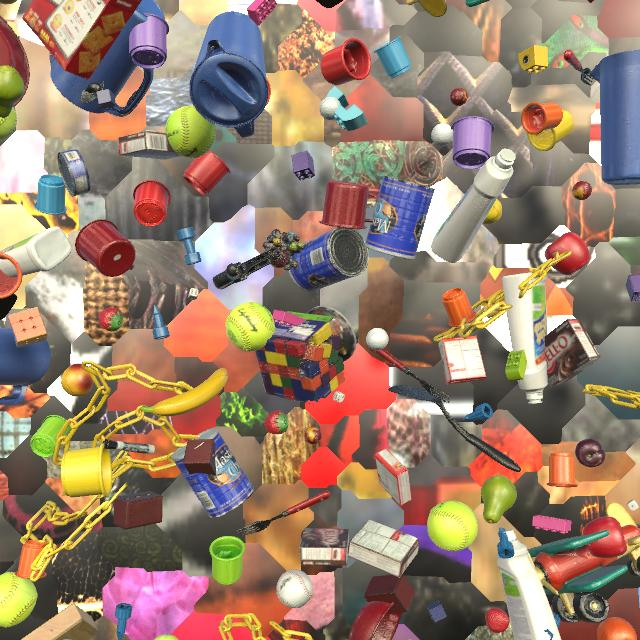ycb_002_master_chef_can: (171, 427, 254, 518), (364, 175, 435, 260), (288, 227, 369, 292), (63, 639, 71, 640)
ycb_003_cracker_box: (22, 0, 142, 80), (587, 0, 594, 3)
ycb_007_tuna_fish_can: (57, 149, 91, 197)
ycb_008_pudding_box: (348, 519, 419, 578), (545, 318, 601, 387), (299, 528, 349, 566), (118, 130, 181, 160)
ycb_009_gelatin_box: (438, 335, 486, 385), (375, 448, 412, 507)
ycb_011_banana: (141, 368, 228, 416)
ycb_012_strawberry: (485, 607, 509, 633), (264, 410, 288, 434), (98, 308, 123, 331)
ycb_013_apple: (545, 232, 590, 275), (583, 516, 627, 558)
ycb_014_lemon: (483, 199, 502, 224), (0, 0, 17, 4)
ycb_015_peach: (61, 363, 94, 397)
ycb_016_pear: (481, 475, 517, 524), (0, 65, 25, 118)
ycb_017_orange: (597, 617, 637, 640)
ycb_018_plum: (575, 439, 605, 467)
